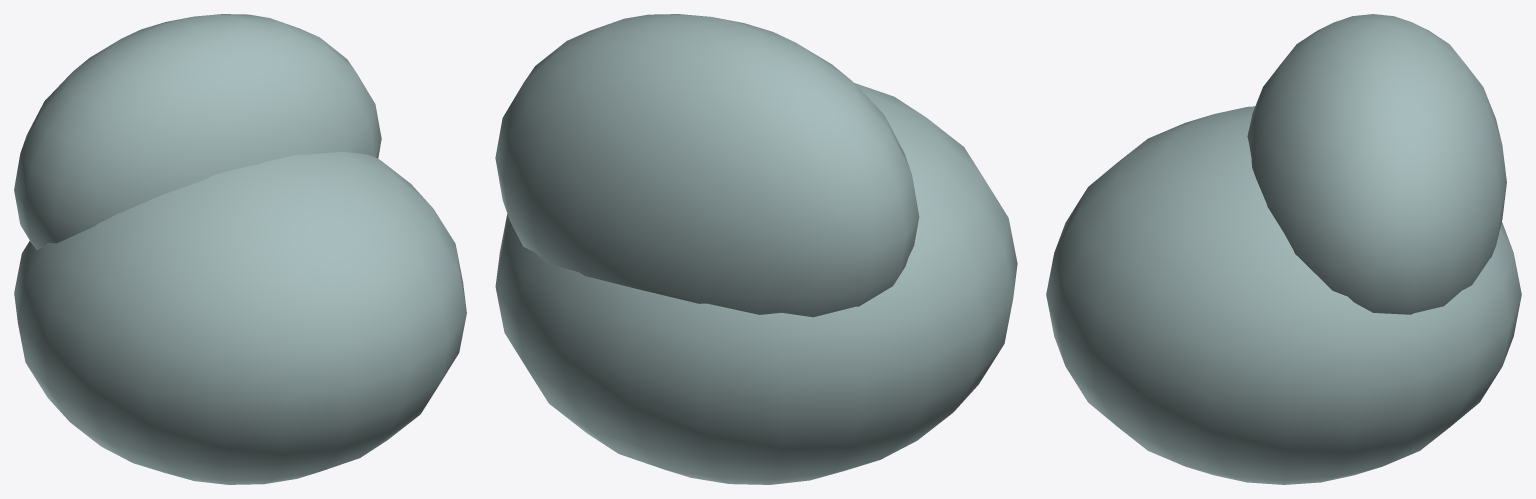
Rendered from atelier-beanbag-chair.glb.
3 views of the same model, side by side, from view 1: azimuth 30°, elevation 25°; view 2: azimuth 150°, elevation 25°; view 3: azimuth 270°, elevation 25° (orthographic). The views are drawn at different scales.
Parts seen in each view (by area): view 1: fabric.024; view 2: fabric.024; view 3: fabric.024.
Part boxes in pixels (box(x1,y1,x2,y2)): fabric.024: box(14, 14, 466, 484); fabric.024: box(495, 14, 1017, 484); fabric.024: box(1046, 14, 1521, 484).
Size of the model in its own units: 0.96 by 0.93 by 0.96.
